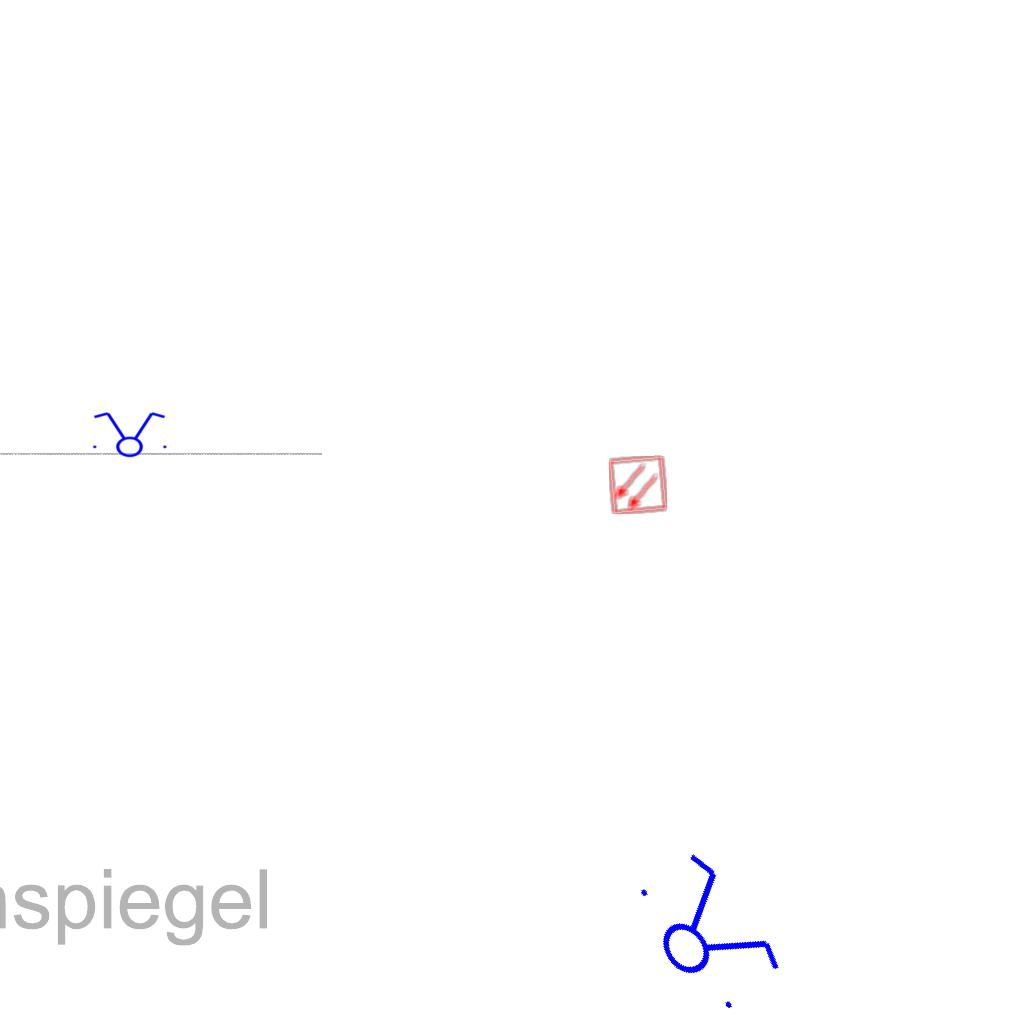RMO_Rauchmelder_optischer: (607, 454, 669, 516)
Serienschalter: (617, 836, 795, 1024), (87, 410, 171, 458)
